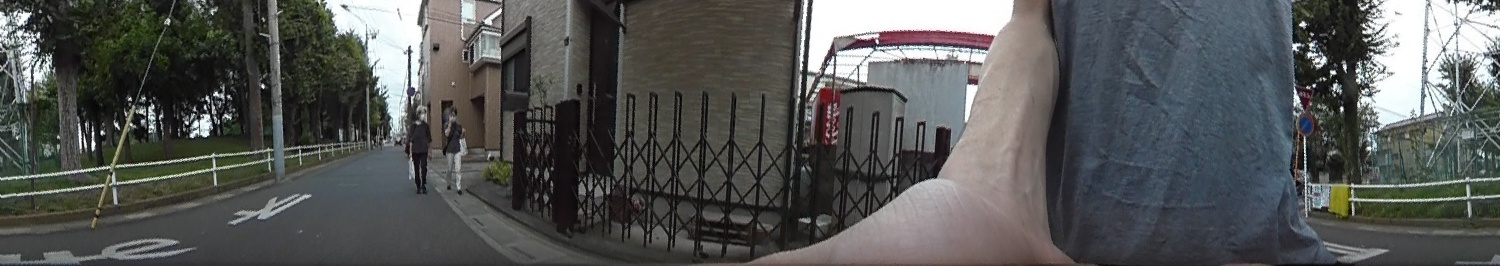person: (404, 101, 435, 197), (443, 104, 466, 196)
